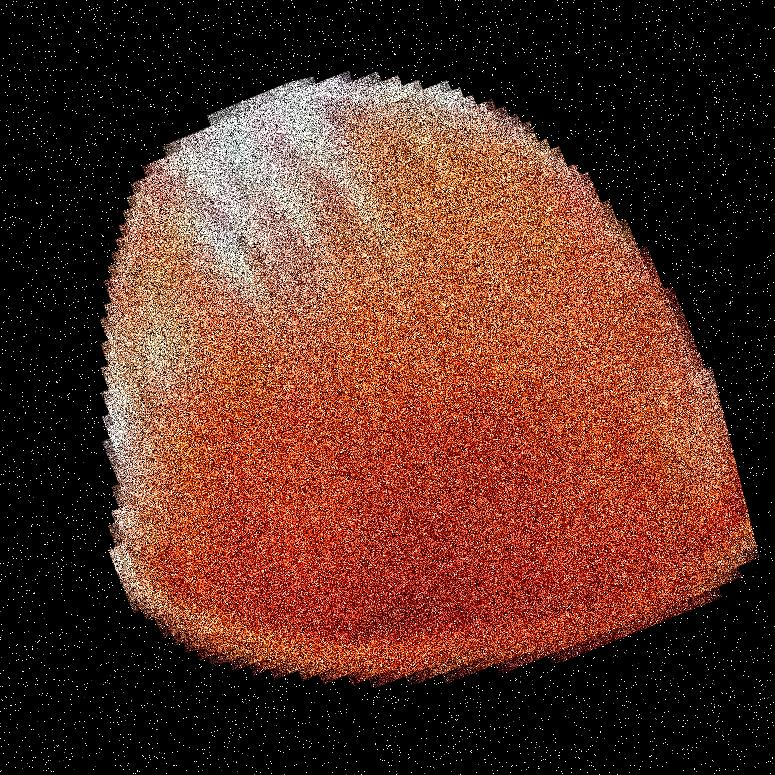Capacete: (236, 0, 706, 774)
